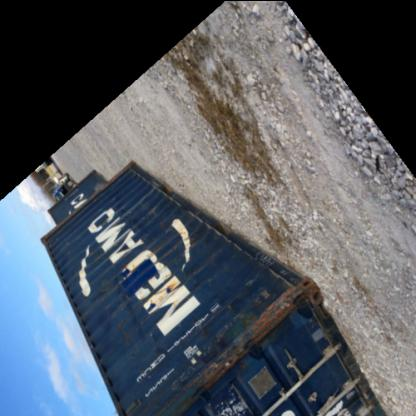Damage: (198, 286, 297, 382), (111, 274, 137, 340), (118, 203, 164, 232), (176, 217, 204, 251), (150, 276, 176, 302), (149, 340, 171, 366)
